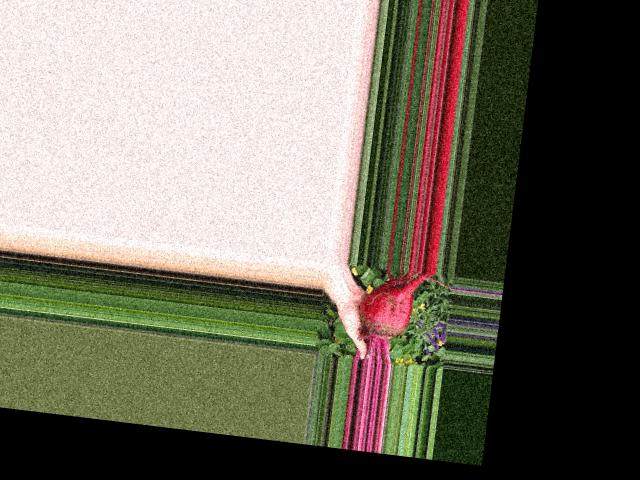beet: (353, 264, 434, 367)
